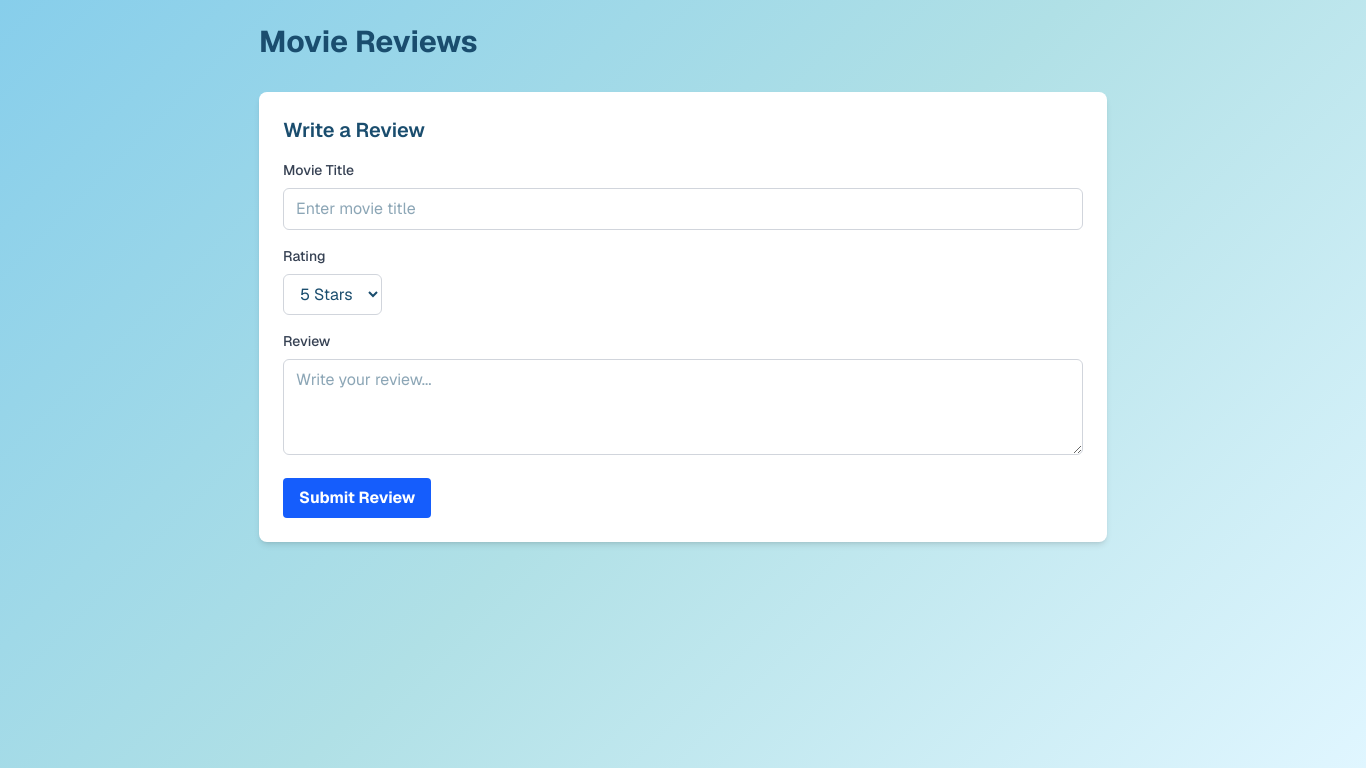
Test: Reviews › allows adding a new review
In the field with placeholder "Enter movie title": (683, 209) top-left (283, 188), bottom-right (1083, 230), type "Test Movie"
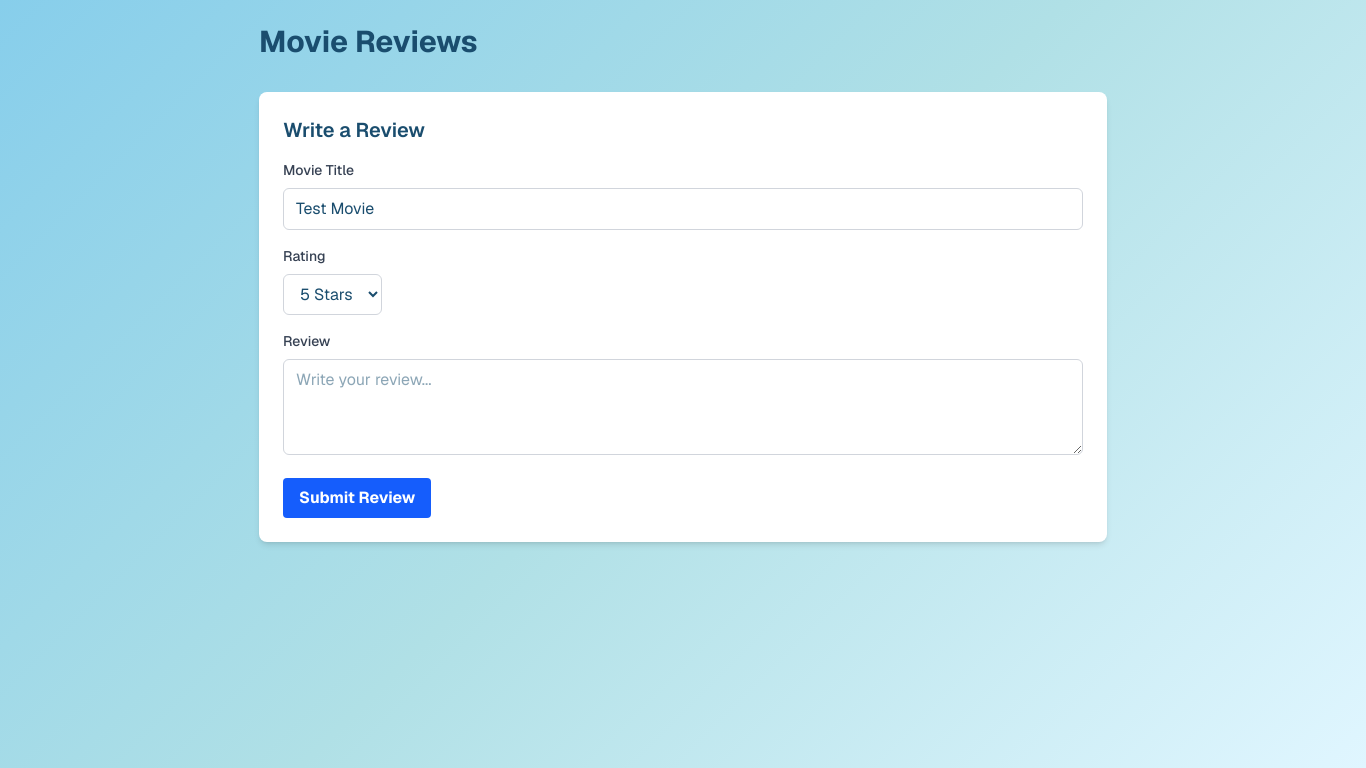
In the text box with placeholder "Write your review...": (683, 407) top-left (283, 359), bottom-right (1083, 455), type "This is a test review"
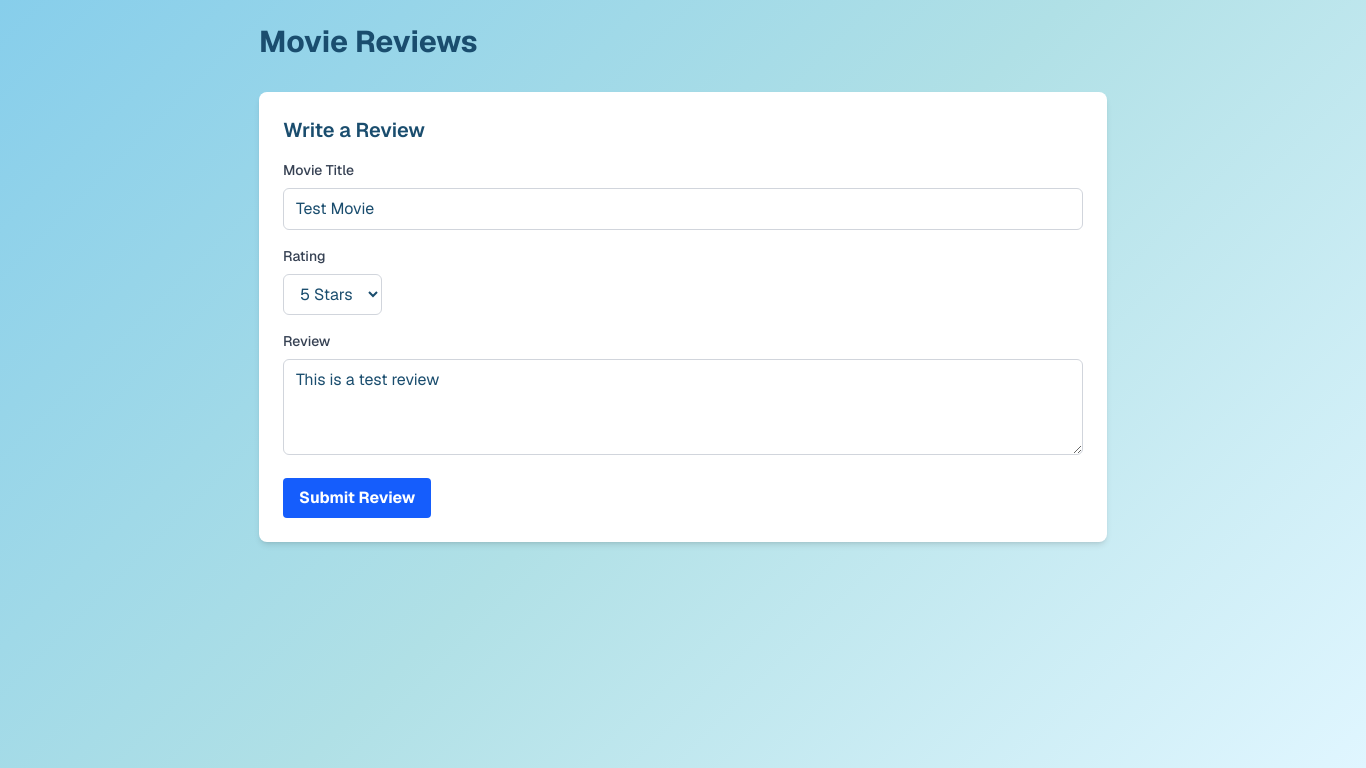
Click the button "Submit Review": (357, 498) top-left (283, 478), bottom-right (431, 518)
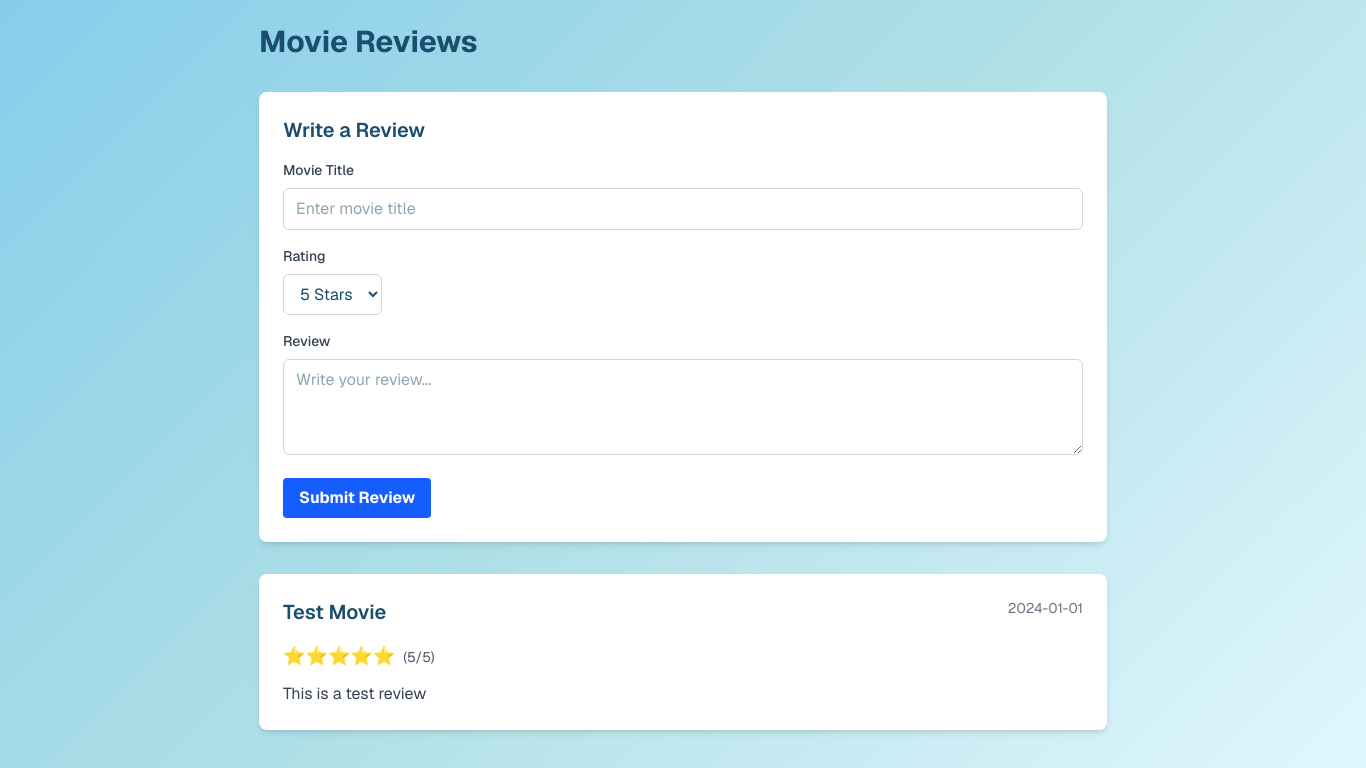
Expected: the heading "Test Movie" is shown, top-left (283, 598), bottom-right (386, 626)
Expected: the text "This is a test review" is shown, top-left (283, 683), bottom-right (426, 704)
